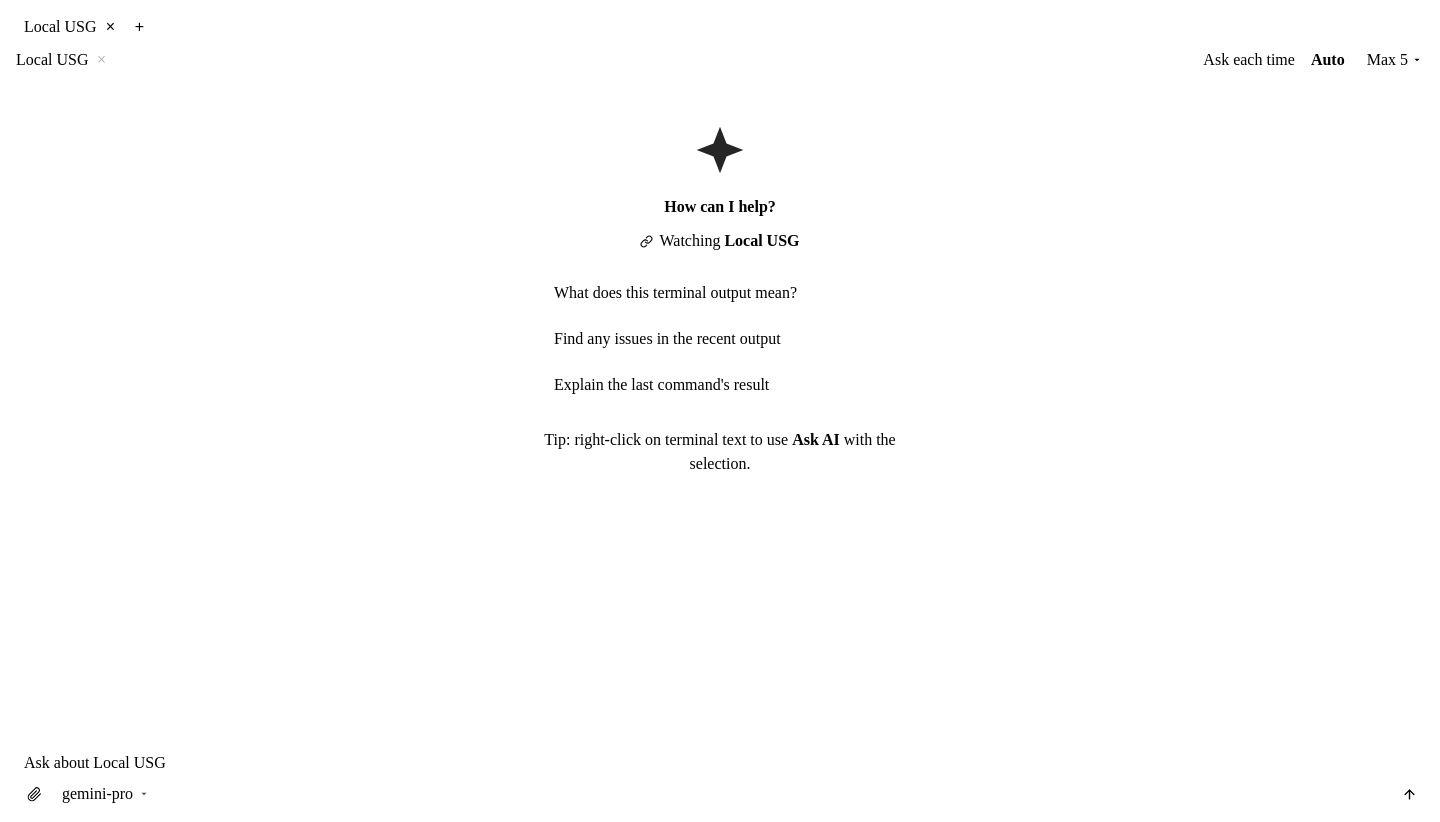
Test: AIChatPane connect card — gate outcomes › asks (never auto-opens) for a device login, and routes SSH without a password to the connection dialog
Type "follow the neighbor" into the text box with placeholder "Ask about Local USG".
click(721, 762); type("follow the neighbor")  # box x1=20 y1=748 x2=1422 y2=776
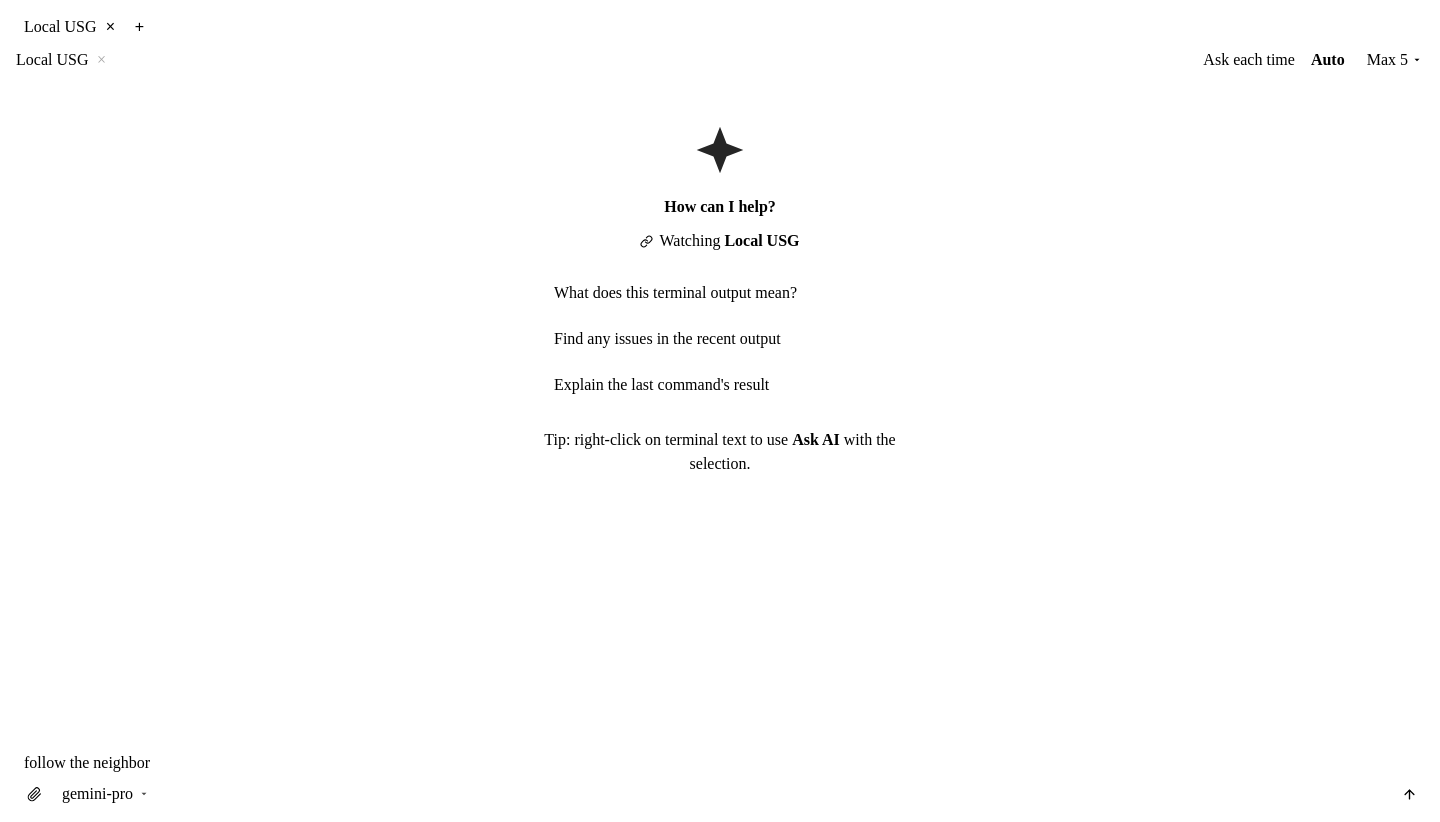
Press Enter in the text box with placeholder "Ask about Local USG", box x1=20 y1=748 x2=1422 y2=776
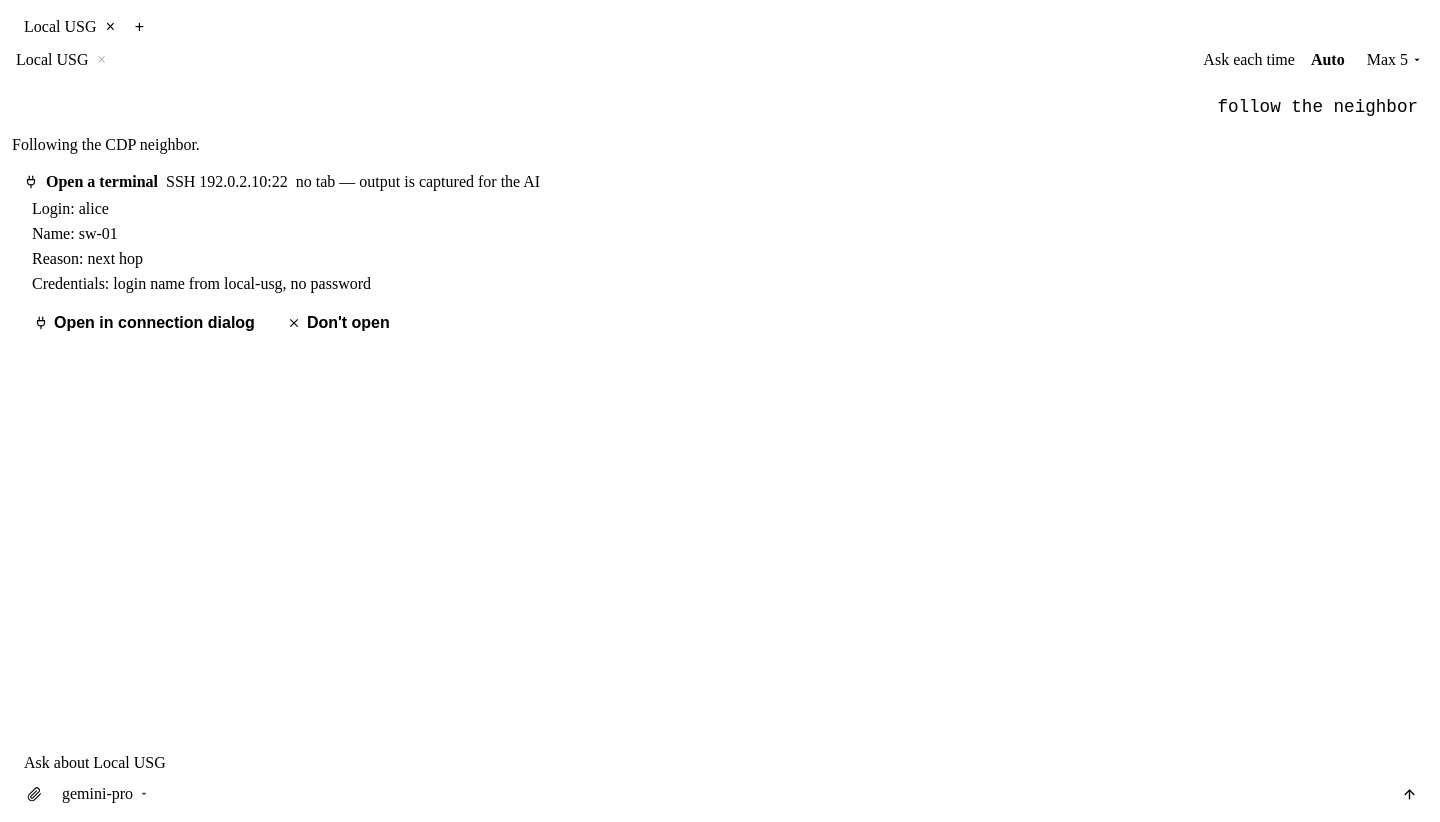
Check: the text "SSH 192.0.2.10:22" is shown, box x1=166 y1=172 x2=288 y2=192
Check: the list item "Login: alice" is shown, box x1=32 y1=200 x2=109 y2=218
Check: the list item "Credentials: login name from local-usg, no password" is shown, box x1=32 y1=275 x2=371 y2=292
Click the button "Open in connection dialog".
click(144, 323)  # box x1=22 y1=310 x2=267 y2=336
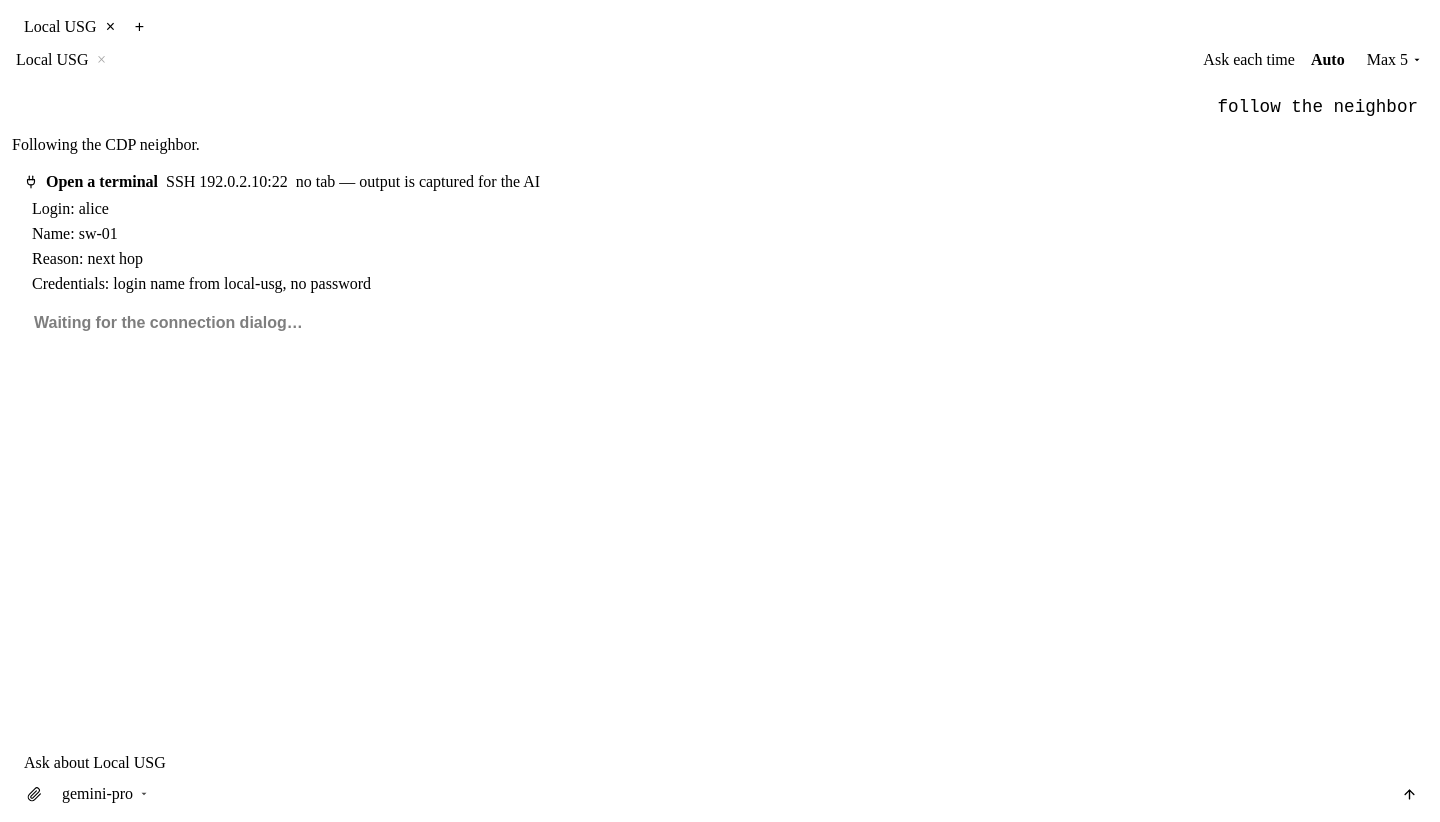
Check: the button "Waiting for the connection dialog…" is shown, box x1=22 y1=310 x2=315 y2=336
